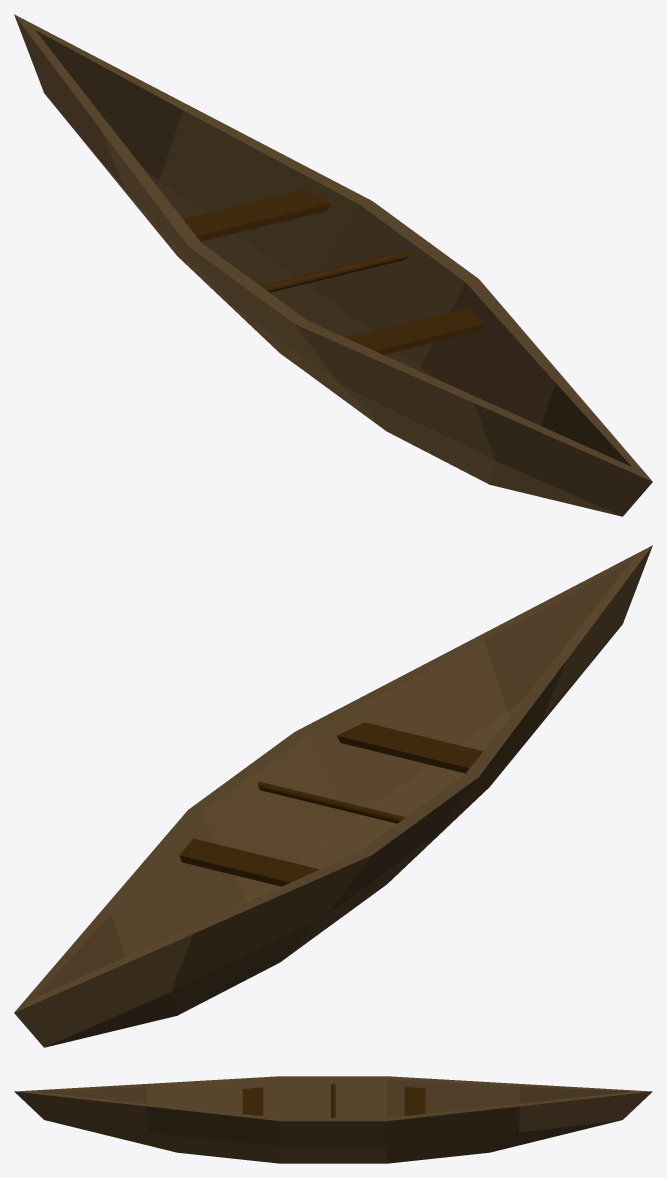
The model's file is Canoe.fbx.
3 views of the same model, one above another, from view 1: azimuth 30°, elevation 25°; view 2: azimuth 150°, elevation 25°; view 3: azimuth 270°, elevation 25° (orthographic). The views are drawn at different scales.
Parts seen in each view (by area): view 1: Cube, Cube.001, Cube.002, Cube.003; view 2: Cube, Cube.002, Cube.001, Cube.003; view 3: Cube, Cube.001, Cube.002, Cube.003.
Part boxes in pixels (x1,y1,x2,y2): Cube: (14, 14, 652, 516); Cube.001: (183, 190, 330, 241); Cube.002: (346, 307, 483, 354); Cube.003: (261, 250, 408, 292); Cube: (14, 545, 652, 1047); Cube.002: (337, 722, 482, 773); Cube.001: (179, 838, 319, 886); Cube.003: (258, 781, 405, 823); Cube: (14, 1076, 652, 1163); Cube.001: (404, 1087, 425, 1115); Cube.002: (242, 1087, 263, 1115); Cube.003: (331, 1084, 335, 1117).
Size of the model in its own units: 200 by 150 by 1200.
